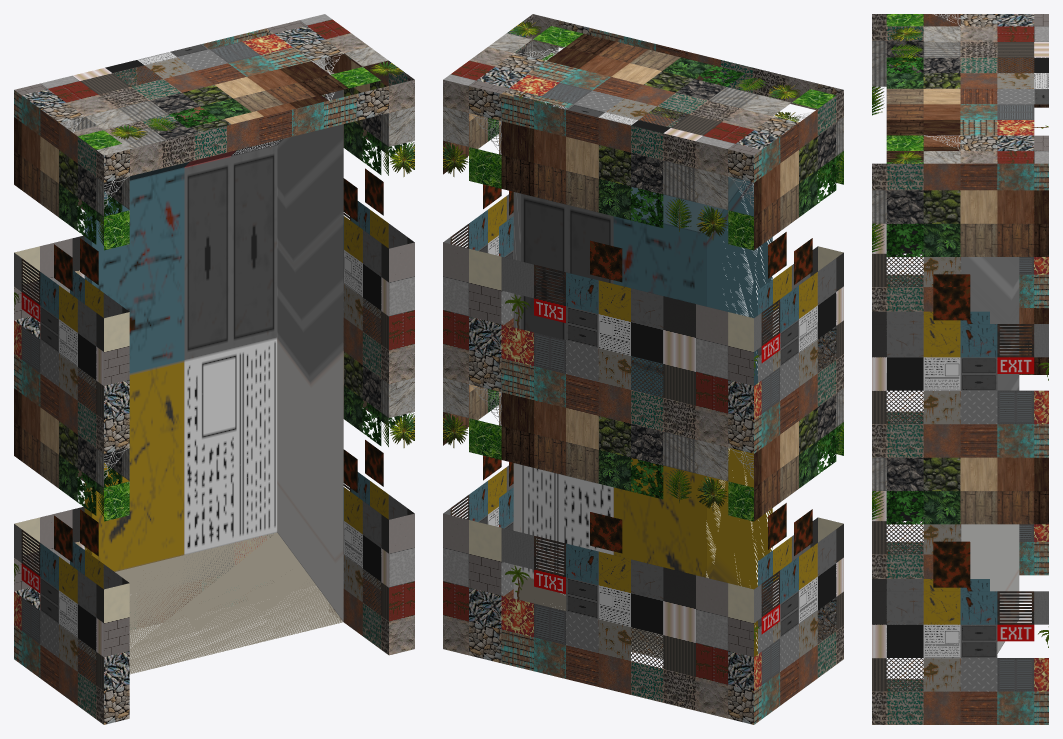
File: DoorPortal.fbx
3 renders of one model, left to right at view 1: azimuth 30°, elevation 25°; view 2: azimuth 150°, elevation 25°; view 3: azimuth 270°, elevation 25°, orthographic.
Visible parts, largest first — view 1: DoorFrame, Portal, LightableDoorframe2, LightableDoorframe; view 2: DoorFrame, Portal, LightableDoorframe, LightableDoorframe2; view 3: DoorFrame, LightableDoorframe, LightableDoorframe2, Portal.
Part boxes in pixels (x1,y1,x2,y2): DoorFrame: (14, 14, 414, 724); Portal: (84, 90, 343, 674); LightableDoorframe2: (59, 48, 414, 723); LightableDoorframe: (14, 14, 369, 691); DoorFrame: (443, 14, 843, 724); Portal: (513, 95, 772, 658); LightableDoorframe: (443, 47, 798, 723); LightableDoorframe2: (488, 15, 843, 691); DoorFrame: (872, 14, 1048, 724); LightableDoorframe: (960, 14, 1048, 724); LightableDoorframe2: (872, 14, 960, 724); Portal: (961, 257, 1019, 653).
Size of the model in its own units: 1.2 by 2.1 by 0.6.
